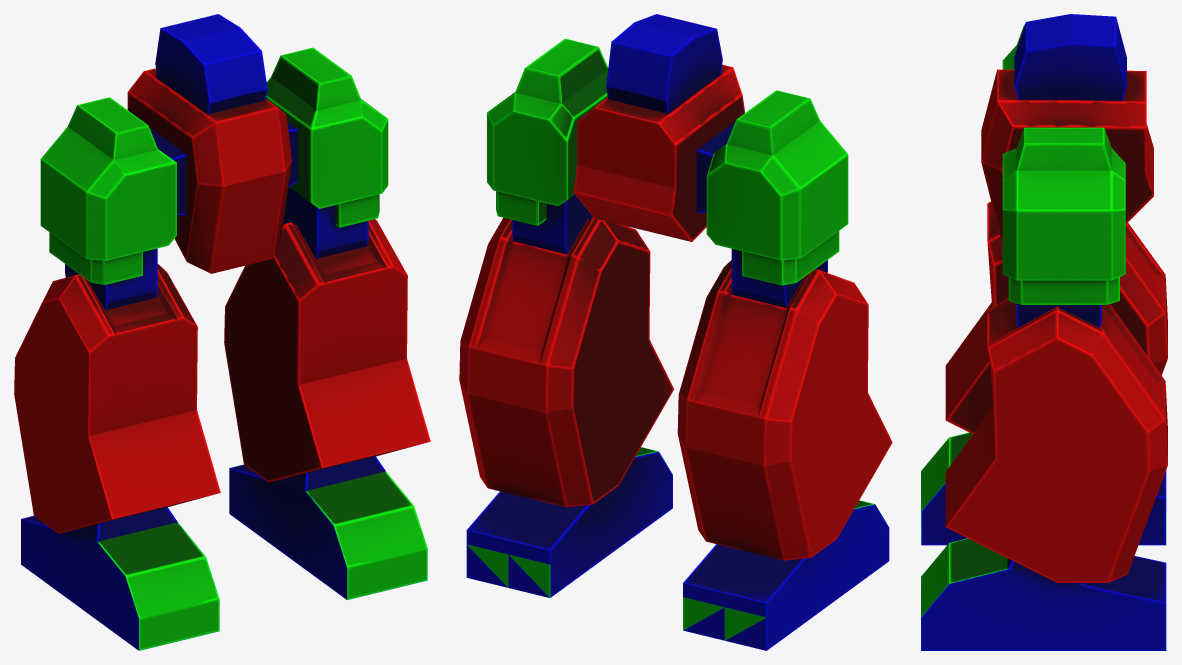
The model's file is lightlegs.glb.
3 views of the same model, side by side, from view 1: azimuth 30°, elevation 25°; view 2: azimuth 150°, elevation 25°; view 3: azimuth 270°, elevation 25° (orthographic). The views are drawn at different scales.
Parts seen in each view (by area): view 1: Cube.022; view 2: Cube.022; view 3: Cube.022.
Part boxes in pixels (bbox=[...]): Cube.022: bbox=[14, 14, 430, 650]; Cube.022: bbox=[459, 14, 892, 650]; Cube.022: bbox=[921, 14, 1167, 650].
Size of the model in its own units: 2.8 by 4.43 by 1.8.
1 material, 1 textured.
